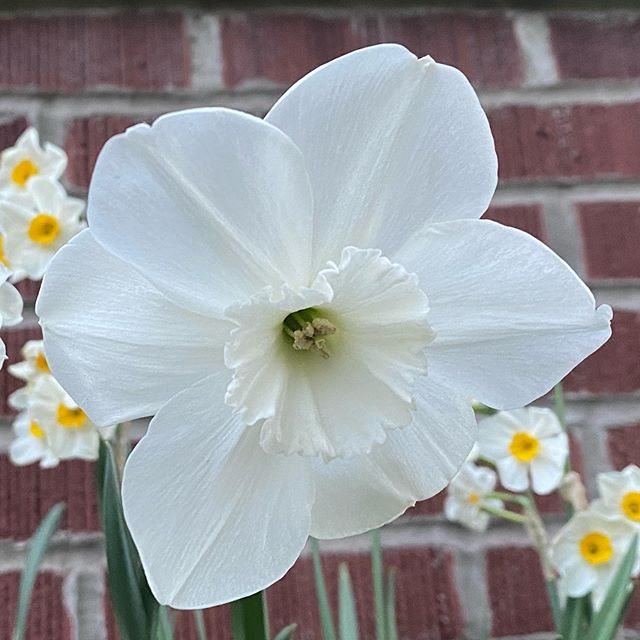flowers: (1, 65, 640, 609)
